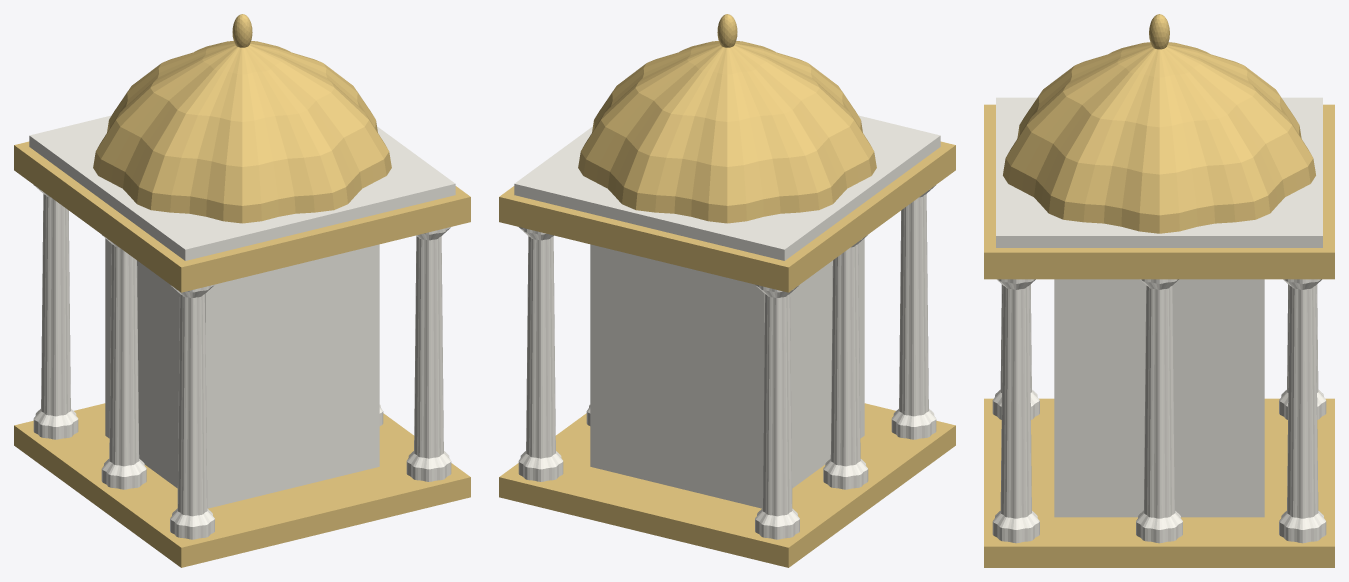
Rendered from pavilion.glb.
3 views of the same model, side by side, from view 1: azimuth 30°, elevation 25°; view 2: azimuth 150°, elevation 25°; view 3: azimuth 270°, elevation 25° (orthographic). The views are drawn at different scales.
Parts seen in each view (by area): view 1: world; view 2: world; view 3: world.
Boxes of the visible parts, x1=… form: world: x1=14, y1=14, x2=470, y2=567; world: x1=499, y1=14, x2=955, y2=567; world: x1=984, y1=14, x2=1334, y2=567.
Size of the model in its own units: 6 by 9.05 by 6.
